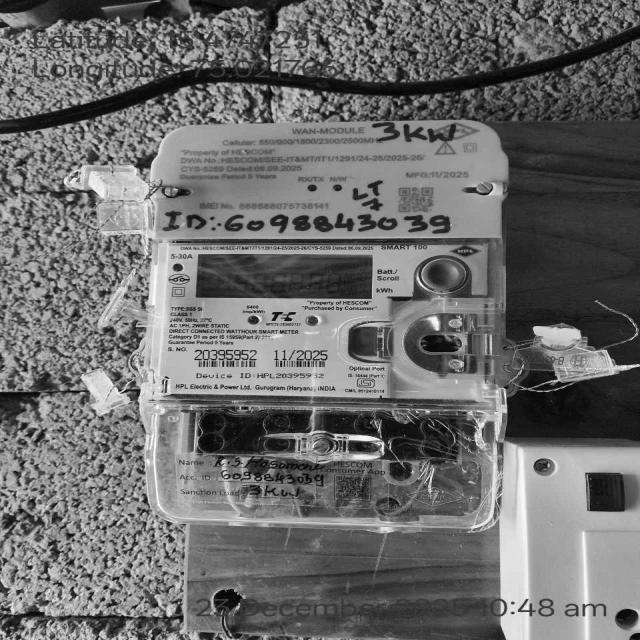meter: (149, 125, 507, 399)
